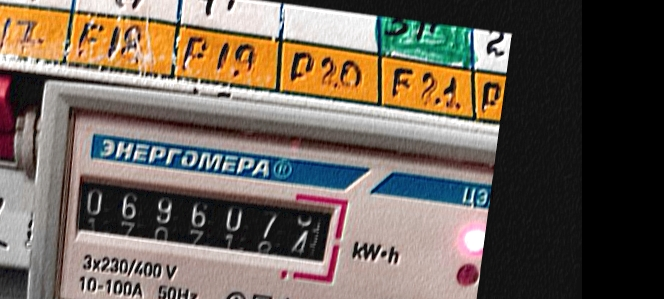0: (84, 184, 109, 217), (225, 202, 248, 233)
4: (290, 226, 312, 257)
6: (189, 197, 213, 230), (120, 189, 143, 220)
7: (260, 205, 282, 239)
9: (155, 194, 179, 225)
screen: (62, 156, 354, 284)
